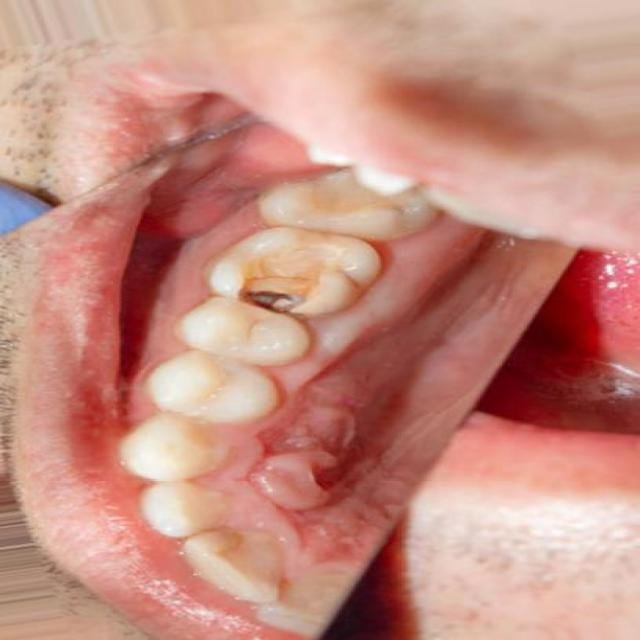caries: (214, 229, 392, 316)
